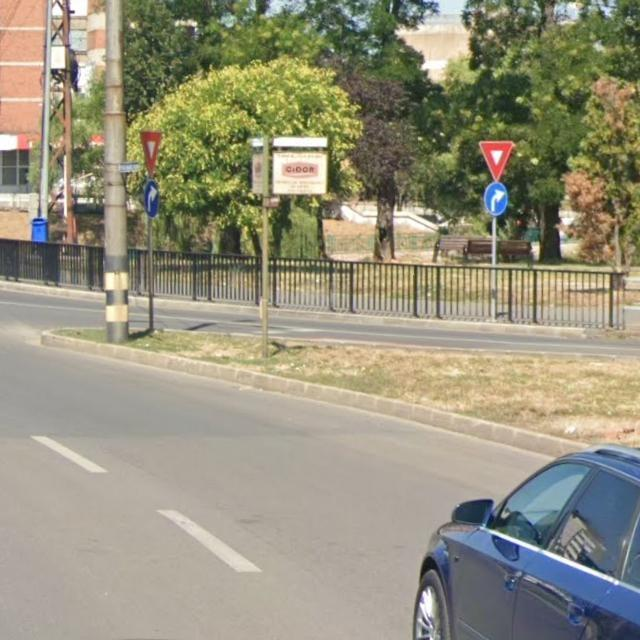prio_give_way: (479, 140, 516, 182), (140, 130, 165, 179)
